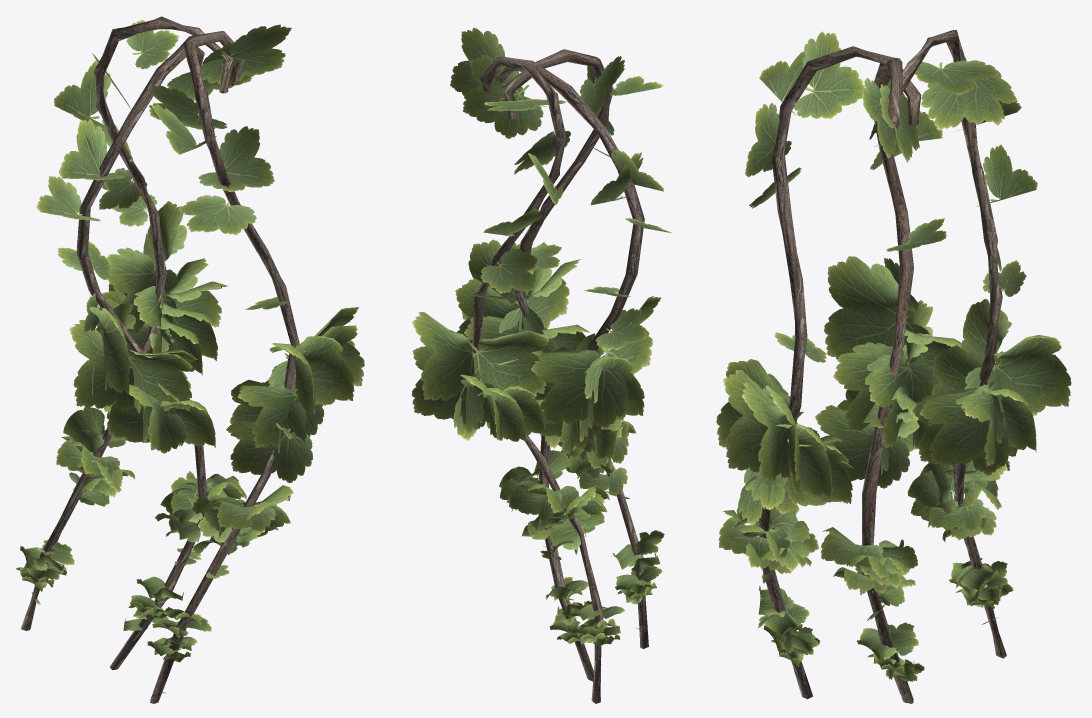
Rendered from Climbing14.fbx.
3 renders of one model, left to right at view 1: azimuth 30°, elevation 25°; view 2: azimuth 150°, elevation 25°; view 3: azimuth 270°, elevation 25°, orthographic. The views are drawn at different scales.
Visible parts, largest first — view 1: climbing14; view 2: climbing14; view 3: climbing14.
Part boxes in pixels (x1,y1,x2,y2): climbing14: [16, 16, 364, 703]; climbing14: [412, 27, 671, 703]; climbing14: [716, 30, 1071, 703].
Size of the model in its own units: 409 by 872 by 415.
